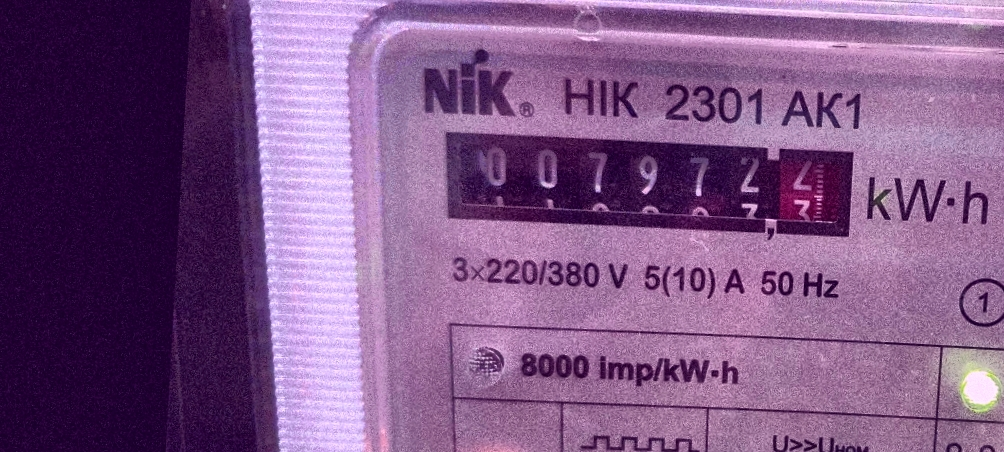0: (482, 143, 510, 186), (534, 145, 560, 189)
2: (737, 155, 762, 194), (789, 158, 813, 192)
3: (789, 195, 812, 221)
7: (684, 152, 712, 199), (583, 148, 610, 194)
9: (634, 151, 659, 195)
screen: (423, 115, 871, 255)
